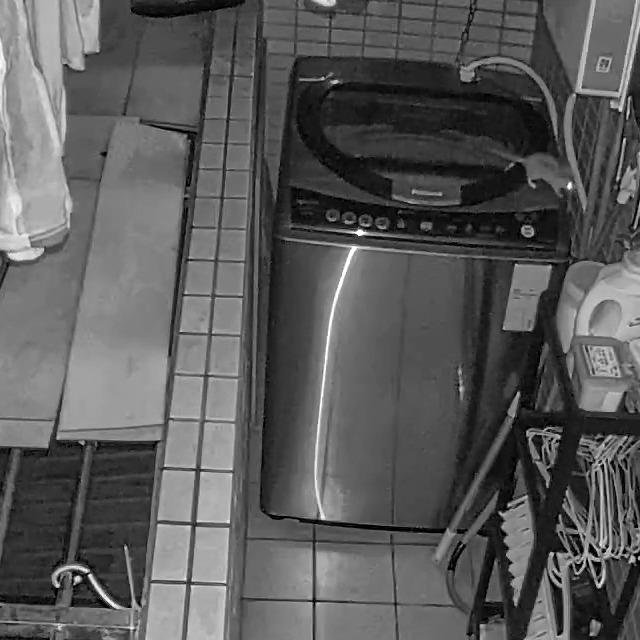rat: (485, 146, 580, 202)
